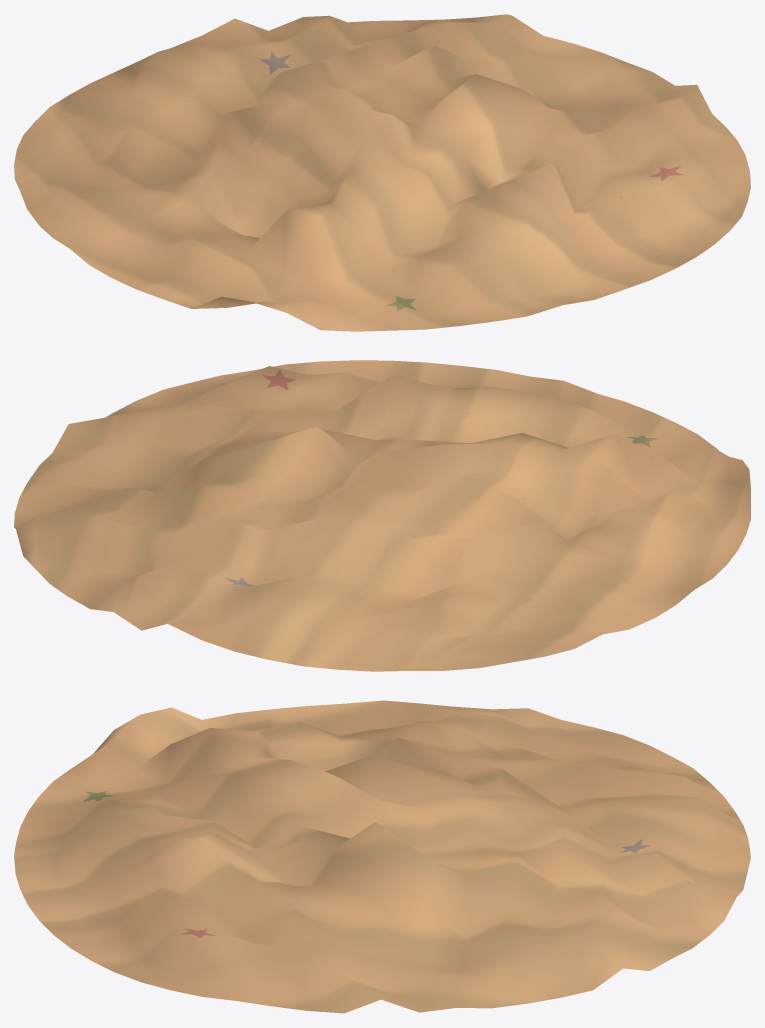
File: Island.fbx
3 renders of one model, top to bottom at view 1: azimuth 30°, elevation 25°; view 2: azimuth 150°, elevation 25°; view 3: azimuth 270°, elevation 25°, orthographic.
Parts seen in each view (by area): view 1: Plane; view 2: Plane; view 3: Plane.
Part boxes in pixels (box(x1,y1,x2,y2)): Plane: box(14, 14, 750, 331); Plane: box(14, 360, 750, 671); Plane: box(14, 700, 750, 1013).
Size of the model in its own units: 5839 by 691 by 5840.
